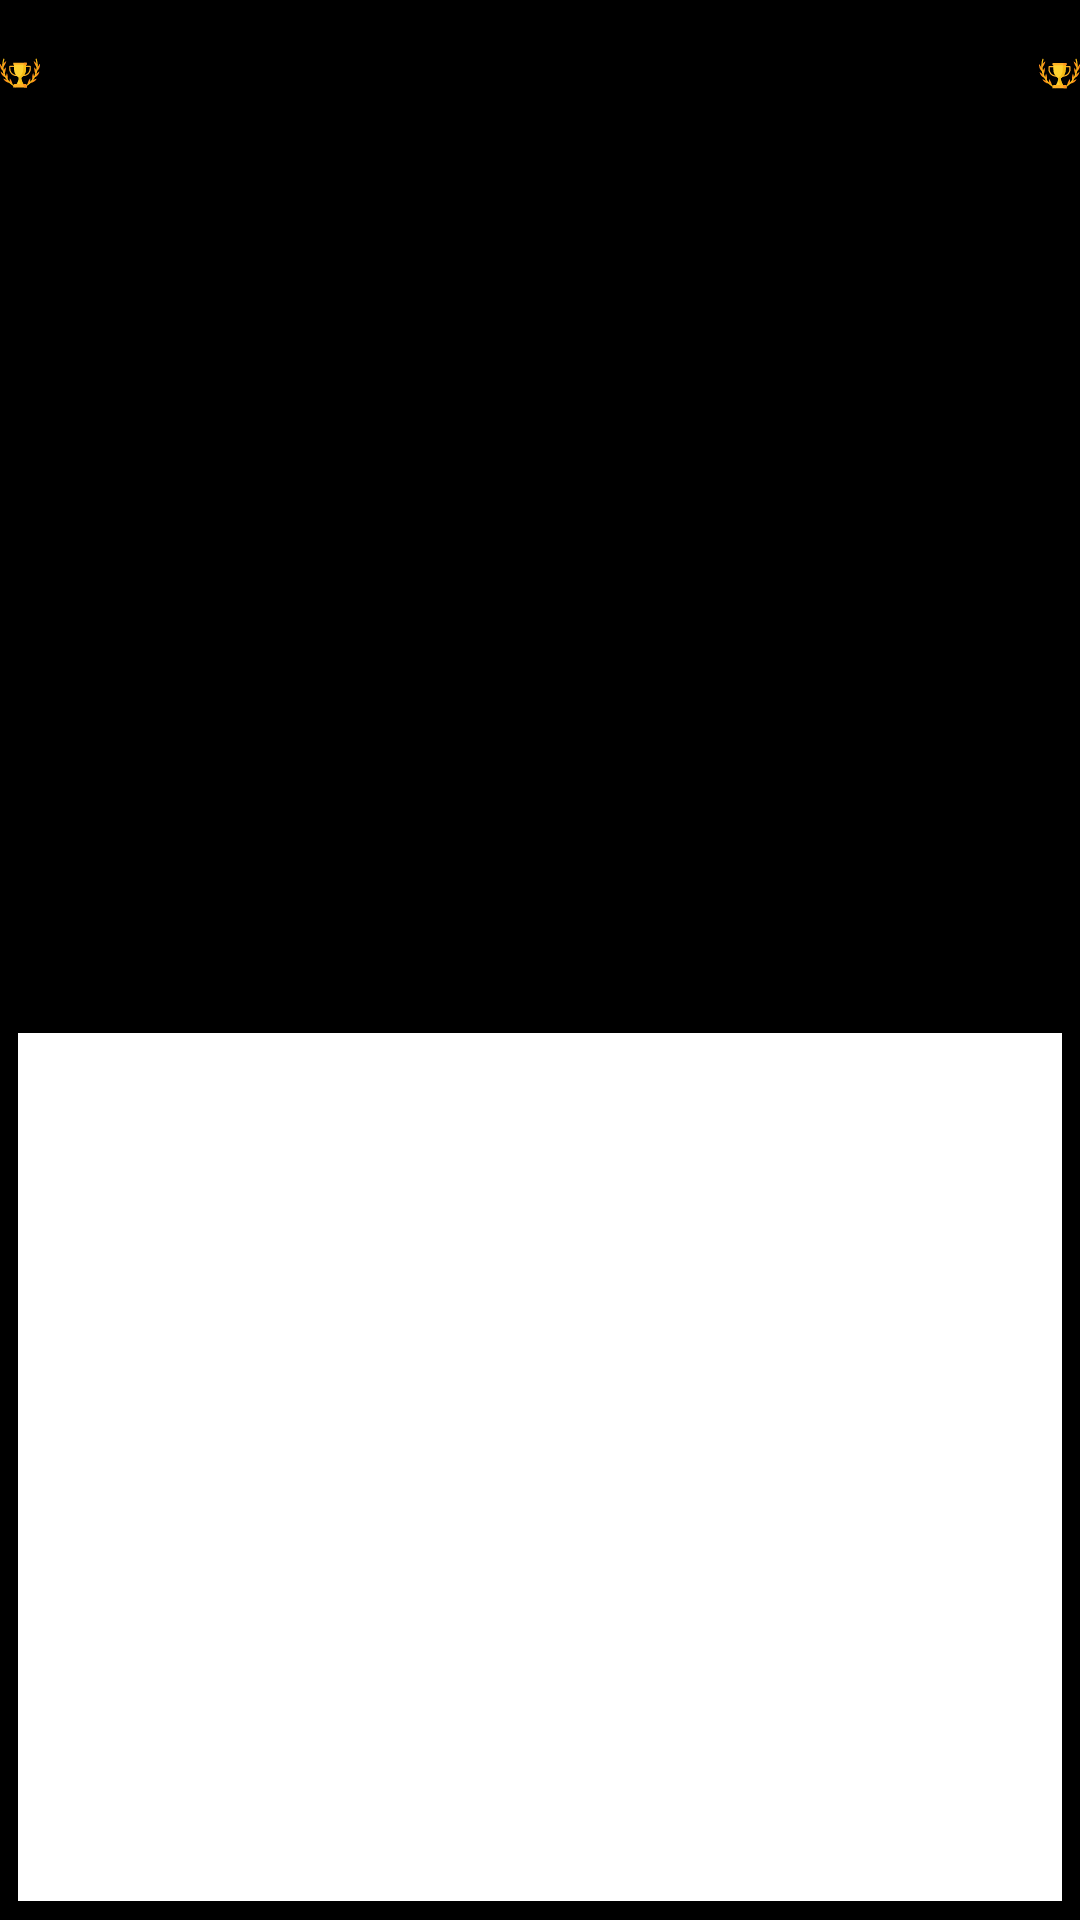

Where to tap for icons on this 1080*1920 app screen, as [x,y]:
trophy: [20,73], [1059,73]
